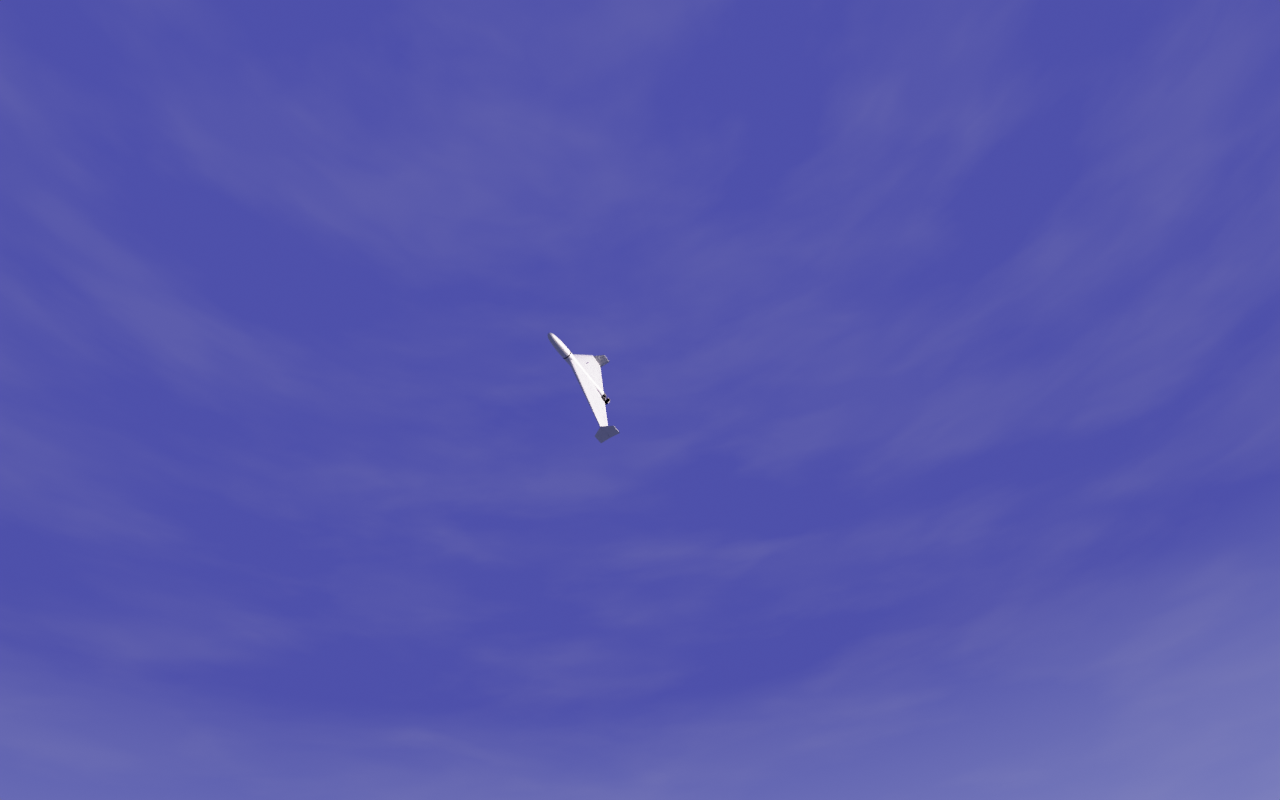shahed: (547, 333, 622, 445)
